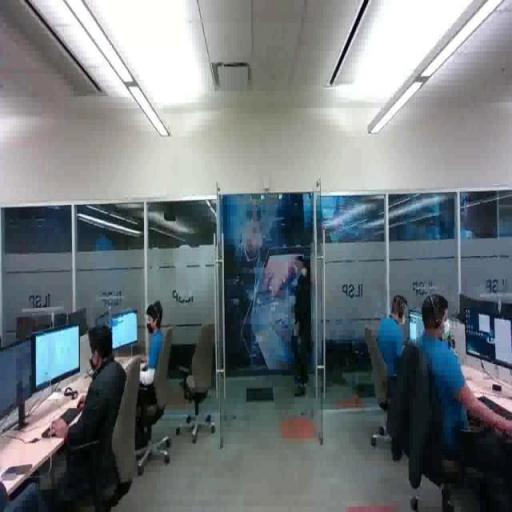person: (403, 290, 512, 481), (48, 324, 127, 507), (126, 299, 174, 437), (374, 291, 425, 420), (289, 257, 317, 405)
